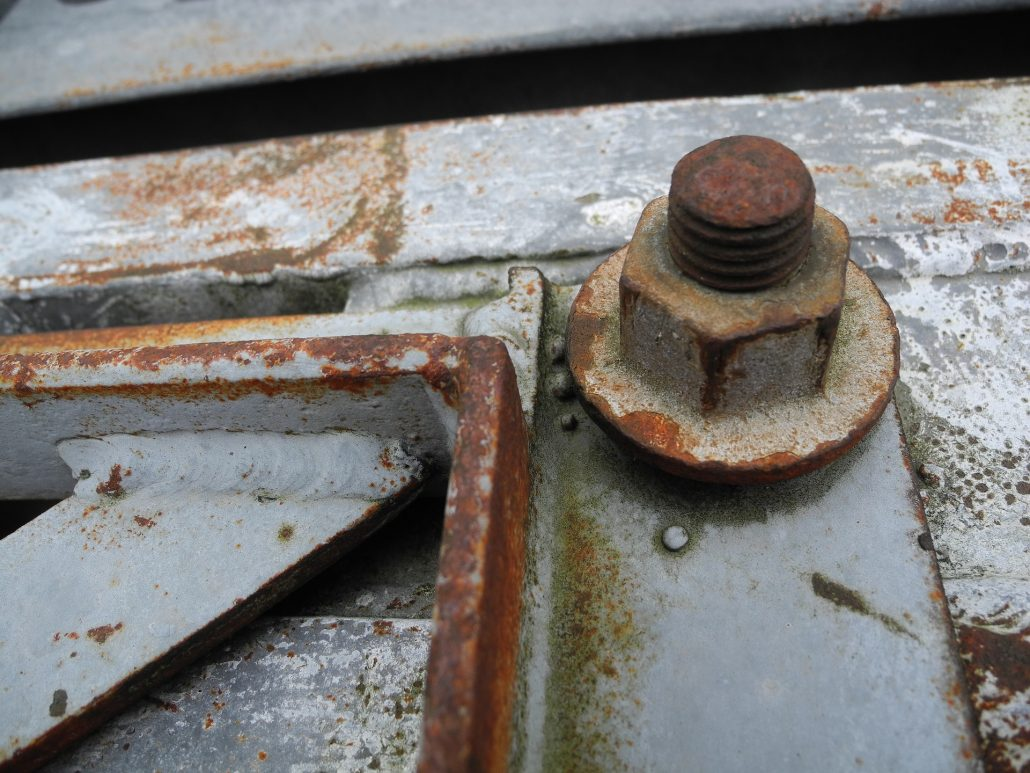bolt_b: (616, 180, 853, 419)
